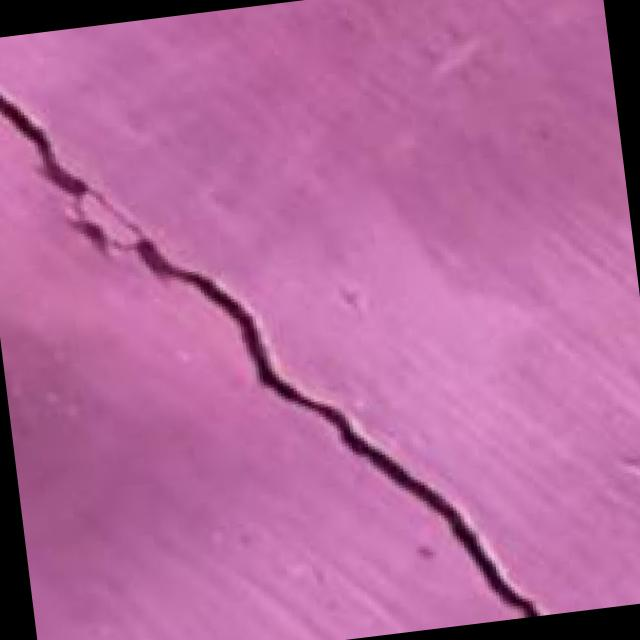crack: (0, 2, 565, 640)
